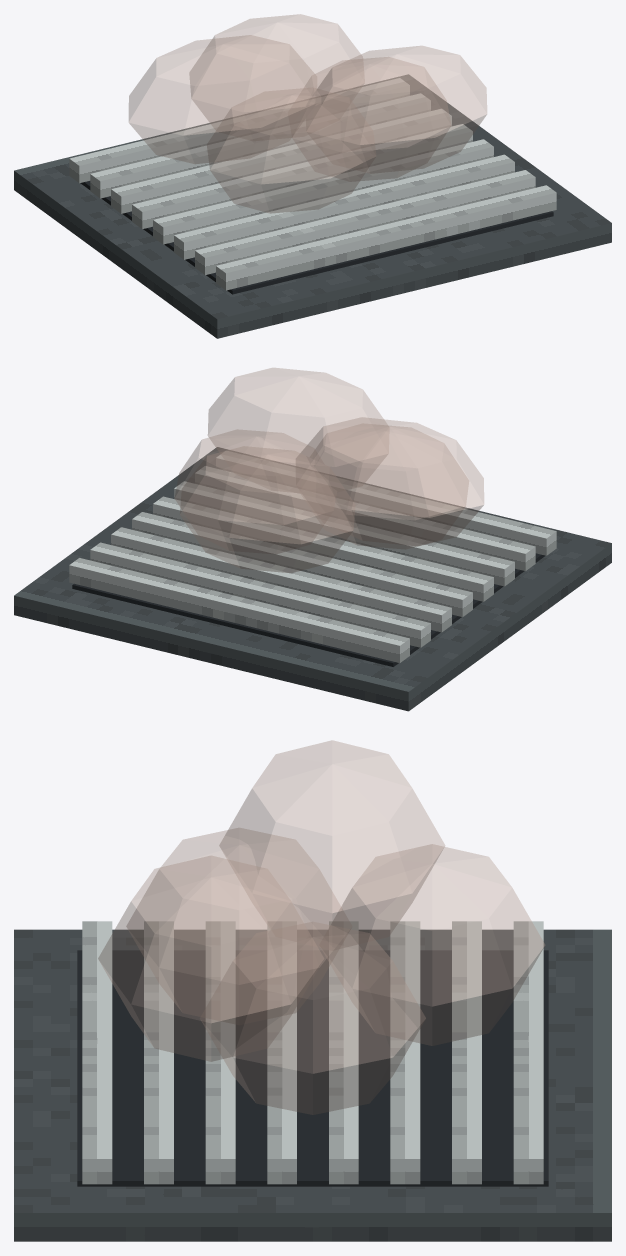
The model's file is f_vent_hot_air2_stream.glb.
3 views of the same model, one above another, from view 1: azimuth 30°, elevation 25°; view 2: azimuth 150°, elevation 25°; view 3: azimuth 270°, elevation 25° (orthographic). The views are drawn at different scales.
Parts seen in each view (by area): view 1: block_soft-edged-vent-plume (×5), block_metal-grate-slat (×8), block_floor-vent-frame, block_dark-duct-opening; view 2: block_soft-edged-vent-plume (×5), block_metal-grate-slat (×8), block_floor-vent-frame, block_dark-duct-opening; view 3: block_soft-edged-vent-plume (×5), block_floor-vent-frame, block_metal-grate-slat (×8), block_dark-duct-opening.
Boxes of the visible parts, x1,y1,x2,y2 form: block_soft-edged-vent-plume (×5): (129, 14, 486, 213); block_metal-grate-slat (×8): (69, 78, 556, 290); block_floor-vent-frame: (14, 74, 611, 338); block_dark-duct-opening: (80, 181, 553, 294); block_soft-edged-vent-plume (×5): (175, 368, 483, 572); block_metal-grate-slat (×8): (69, 451, 556, 662); block_floor-vent-frame: (14, 447, 611, 711); block_dark-duct-opening: (72, 553, 545, 666); block_soft-edged-vent-plume (×5): (98, 740, 544, 1114); block_floor-vent-frame: (14, 929, 611, 1241); block_metal-grate-slat (×8): (82, 921, 543, 1184); block_dark-duct-opening: (77, 950, 548, 1186).
Size of the model in its own units: 0.74 by 0.336 by 0.66.
Materials: 2 (2 with a texture image).
